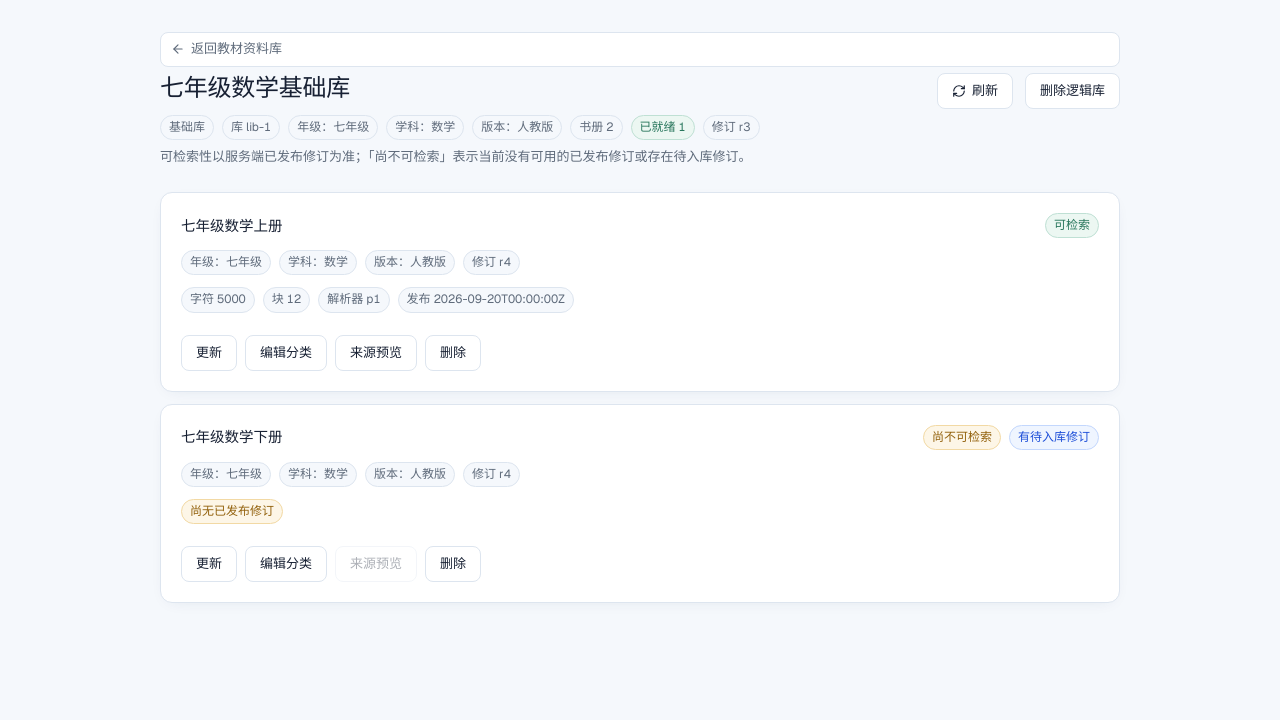
Test: 教材库详情 › 最新列表移除活动书册时保留同一编辑行并标明旧快照不可操作
Click the button "编辑分类" below "七年级数学上册": click(286, 353) [245, 335, 327, 371]
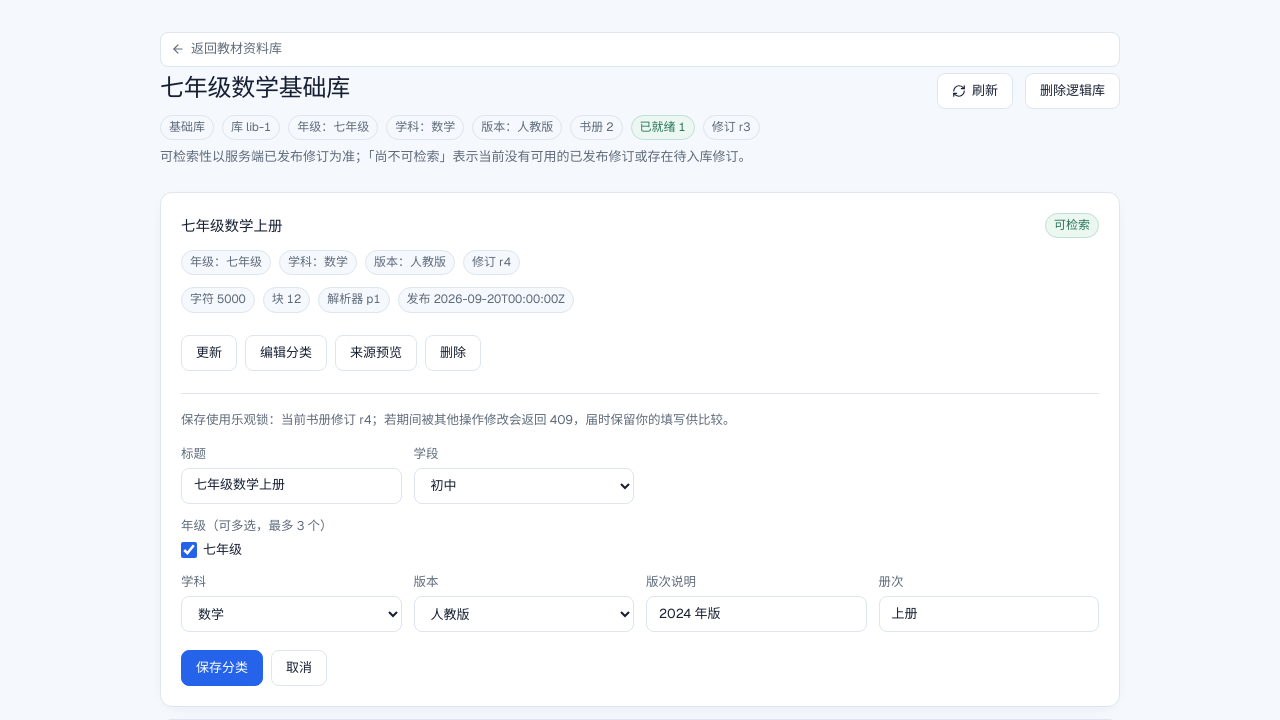
Replace the text in the field labelled "标题" with "被移出列表仍需保留的填写": (291, 486) [181, 468, 402, 504]
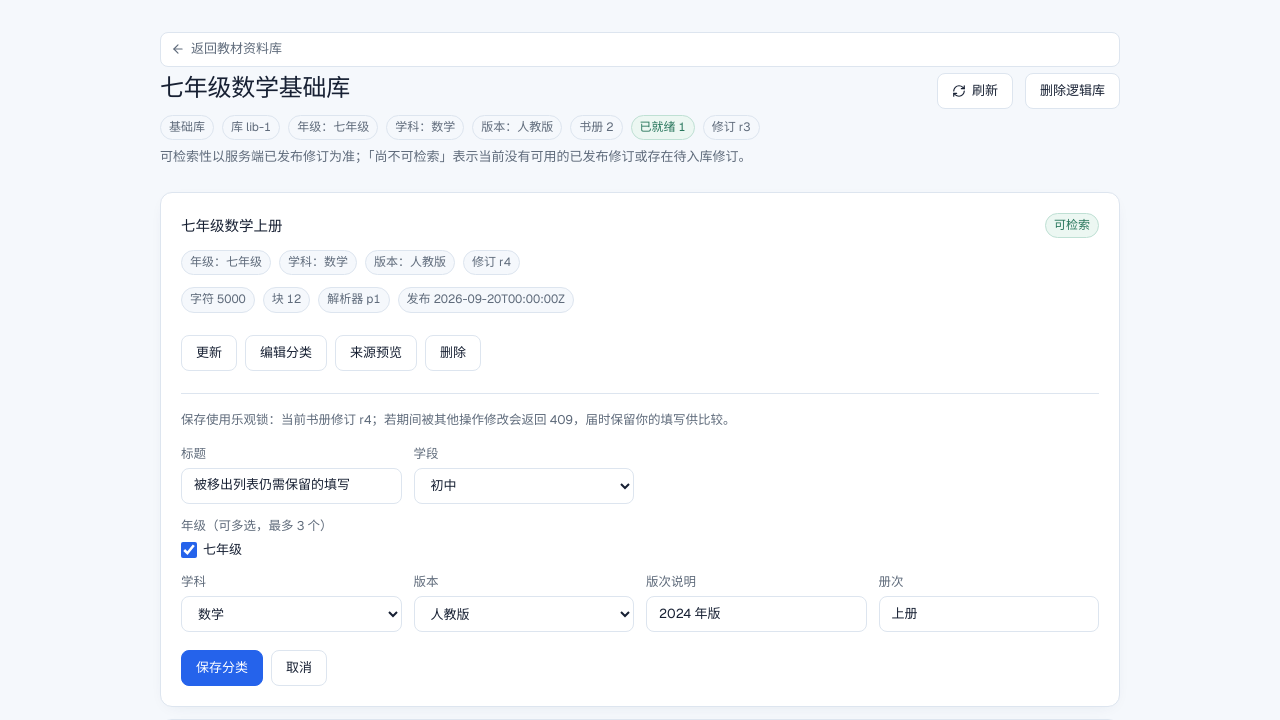
Click the button "刷新": click(975, 91) [937, 73, 1013, 109]
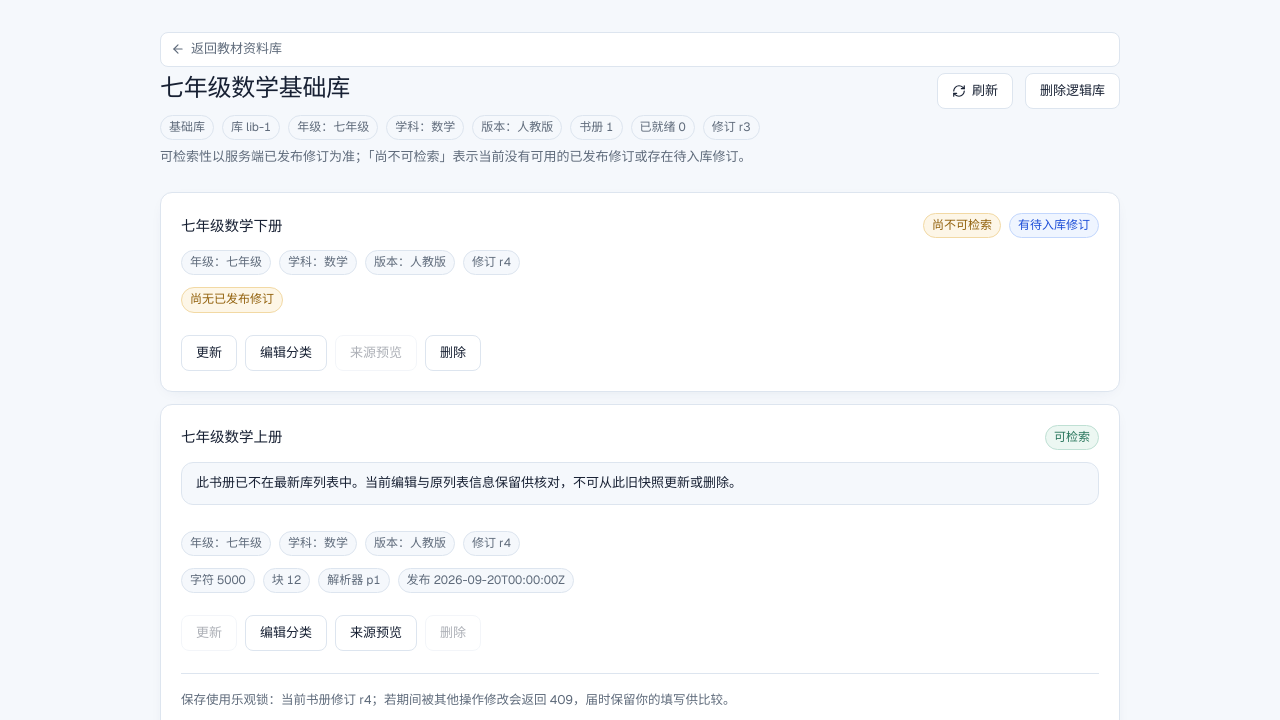
Check: the text "此书册已不在最新库列表中。当前编辑与原列表信息保留供核对，不可从此旧快照更新或删除。" is shown, box [181, 462, 1099, 505]
Check: the button "更新" below "七年级数学上册" is disabled, box [181, 615, 237, 651]
Check: the button "删除" below "七年级数学上册" is disabled, box [425, 615, 481, 651]
